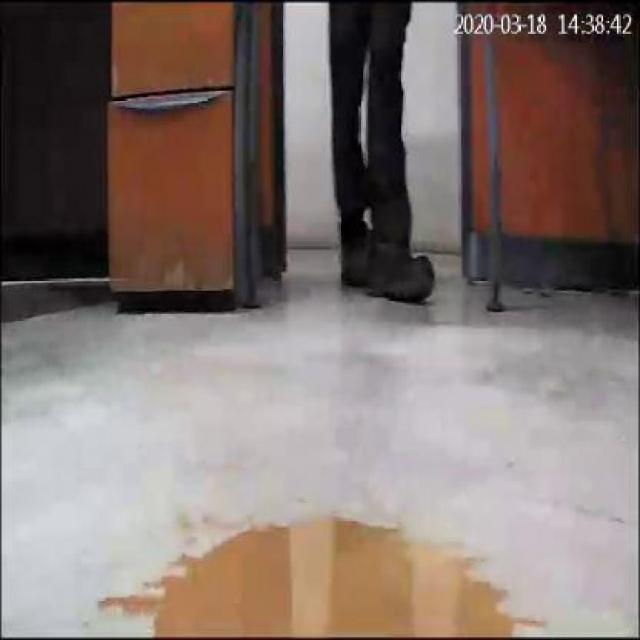spill: (98, 502, 551, 636)
